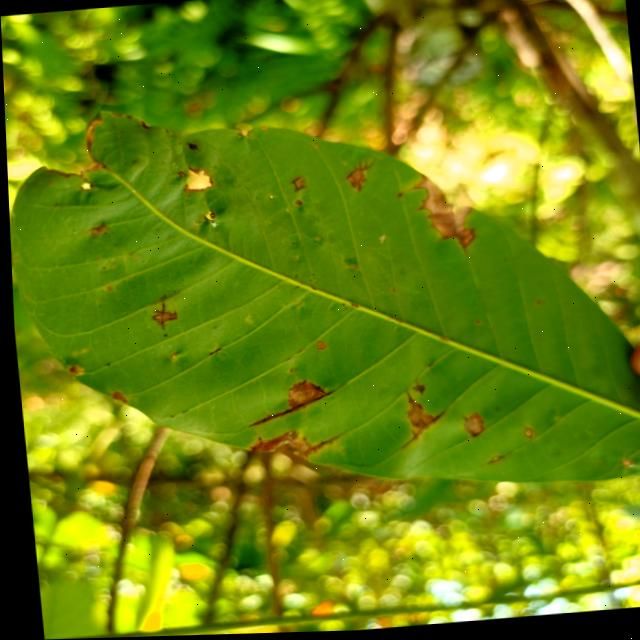Corynespora: (240, 379, 346, 430), (391, 391, 448, 453), (146, 295, 176, 333)
Leaf-Blight: (418, 175, 477, 257), (247, 433, 311, 463)
